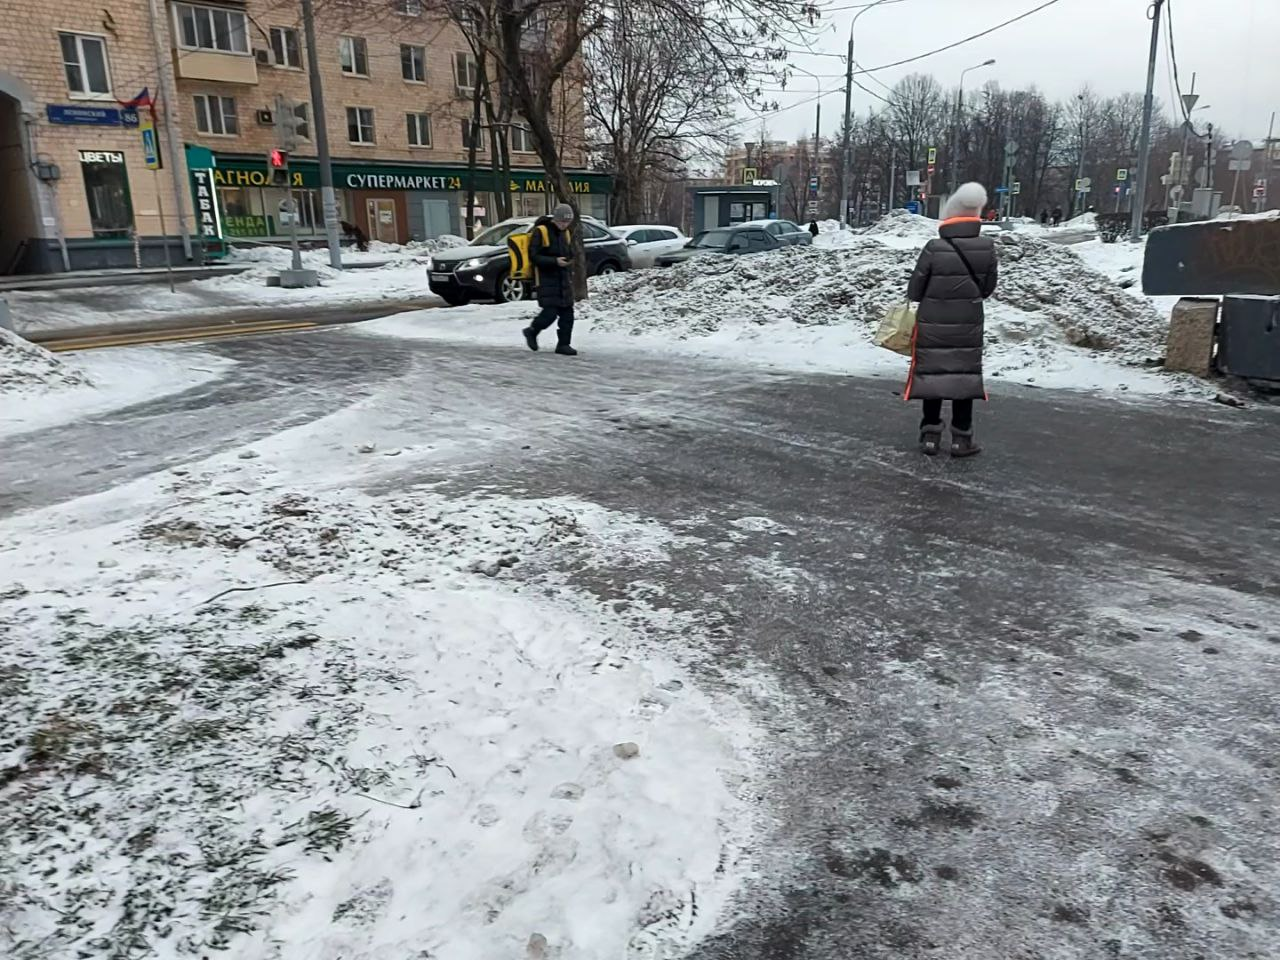sombie: (501, 197, 601, 370)
